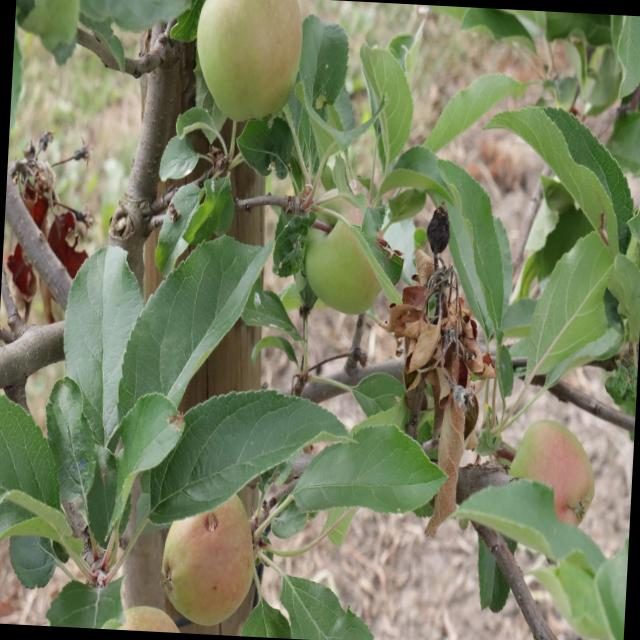-FireBlight-: (392, 261, 499, 530)
